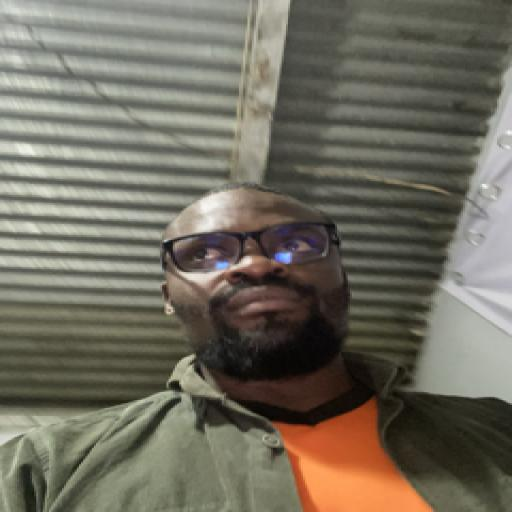JEANLUC: (156, 181, 362, 373)
